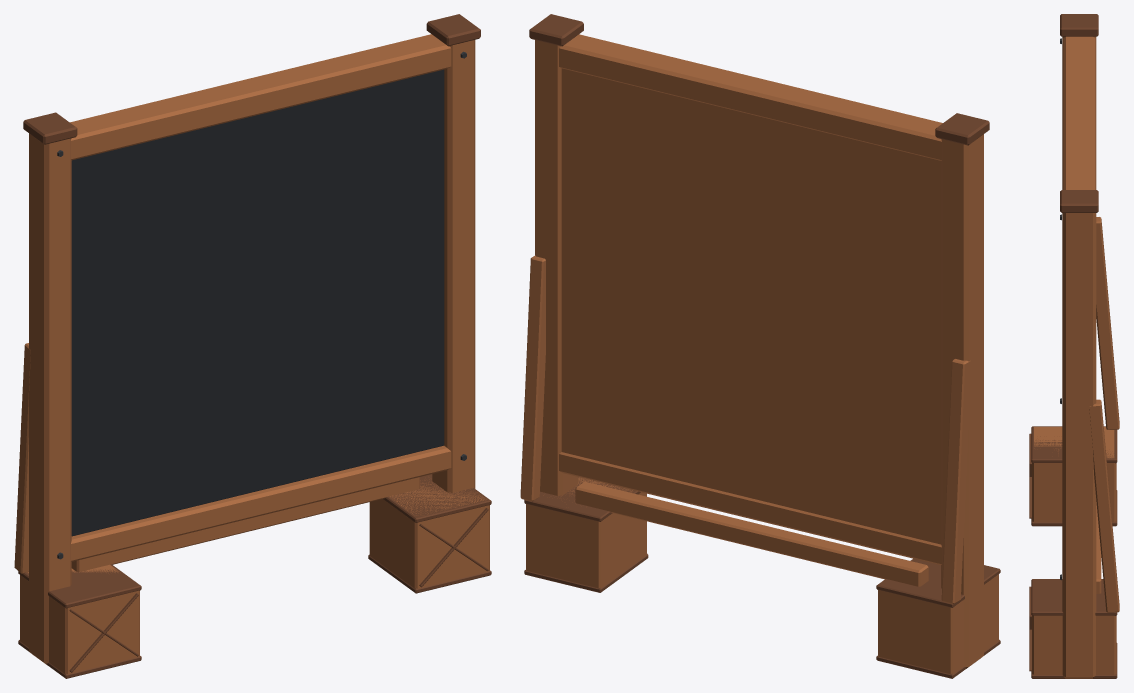
File: Lodge_Leaderboard.fbx
The picture shows the model from 3 angles, left to right: view 1: azimuth 30°, elevation 25°; view 2: azimuth 150°, elevation 25°; view 3: azimuth 270°, elevation 25°; orthographic projection. The views are drawn at different scales.
Visible parts, largest first — view 1: BoardFace, Frame, FnWood, FnWoodDark; view 2: Frame, FnWood, FnWoodDark; view 3: Frame, FnWood, FnWoodDark.
Boxes of the visible parts, x1,y1,x2,y2 form: BoardFace: (71,69,444,536); Frame: (14,34,475,664); FnWood: (20,479,489,673); FnWoodDark: (18,14,491,678); Frame: (520,34,983,668); FnWood: (526,477,998,673); FnWoodDark: (524,14,1000,678); Frame: (1062,36,1119,678); FnWood: (1032,427,1116,674); FnWoodDark: (1029,14,1117,678).
Size of the model in its own units: 13.39 by 15.6 by 2.68.
